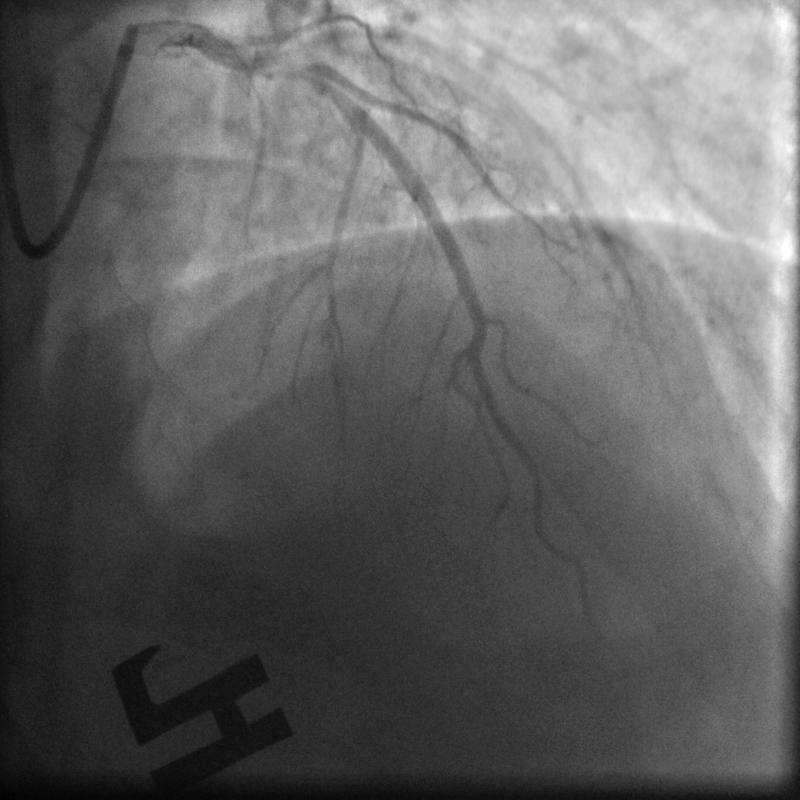Stenosis: (246, 49, 316, 84)
